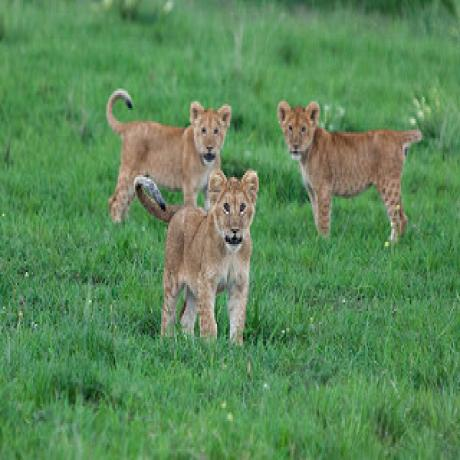Lion: (277, 97, 418, 246), (154, 169, 260, 342), (105, 87, 231, 206)
